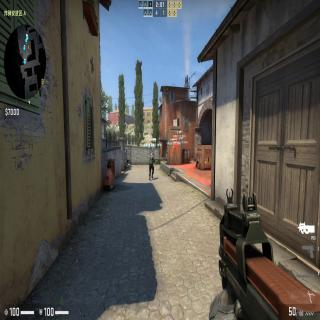CT-Body: (148, 152, 156, 180)
CT-Head: (152, 152, 154, 156)
